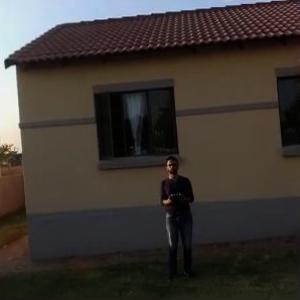follow: (158, 151, 201, 286)
